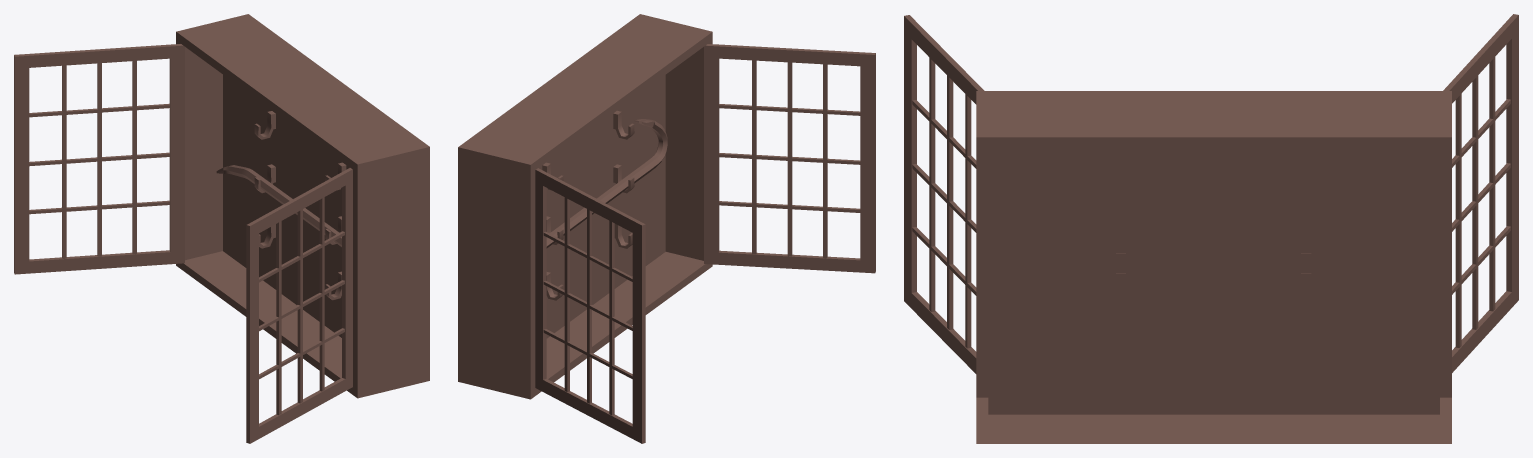
The model's file is Crowbar.fbx.
3 views of the same model, side by side, from view 1: azimuth 30°, elevation 25°; view 2: azimuth 150°, elevation 25°; view 3: azimuth 270°, elevation 25° (orthographic). The views are drawn at different scales.
Parts seen in each view (by area): view 1: Box, Crowbar; view 2: Box, Crowbar; view 3: Box.
Part boxes in pixels (bbox=[...]): Box: bbox=[14, 14, 429, 443]; Crowbar: bbox=[216, 165, 341, 246]; Box: bbox=[458, 14, 875, 443]; Crowbar: bbox=[546, 119, 667, 248]; Box: bbox=[904, 14, 1518, 443].
Size of the model in its own units: 124 by 132 by 240.
